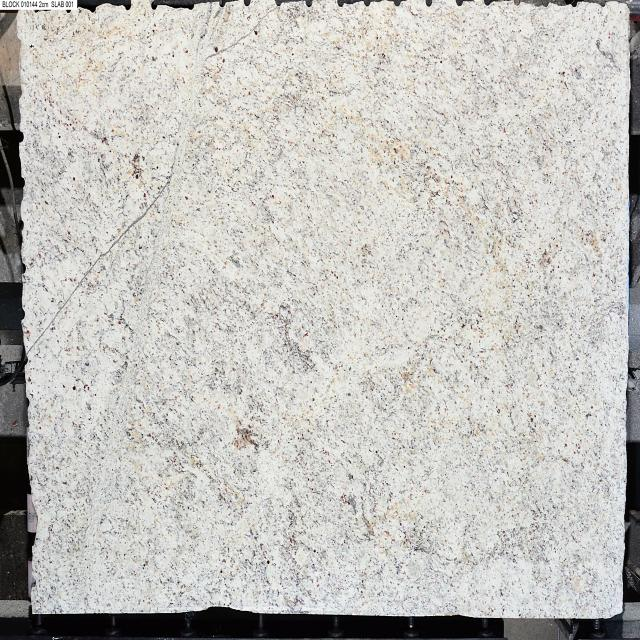chapa: (19, 0, 630, 616)
veio: (122, 0, 134, 12), (18, 129, 26, 147), (148, 0, 160, 11), (362, 0, 373, 11), (421, 0, 436, 8), (21, 261, 27, 276), (393, 0, 402, 9), (218, 0, 226, 9), (307, 0, 315, 8), (336, 0, 343, 9), (244, 0, 251, 7)
